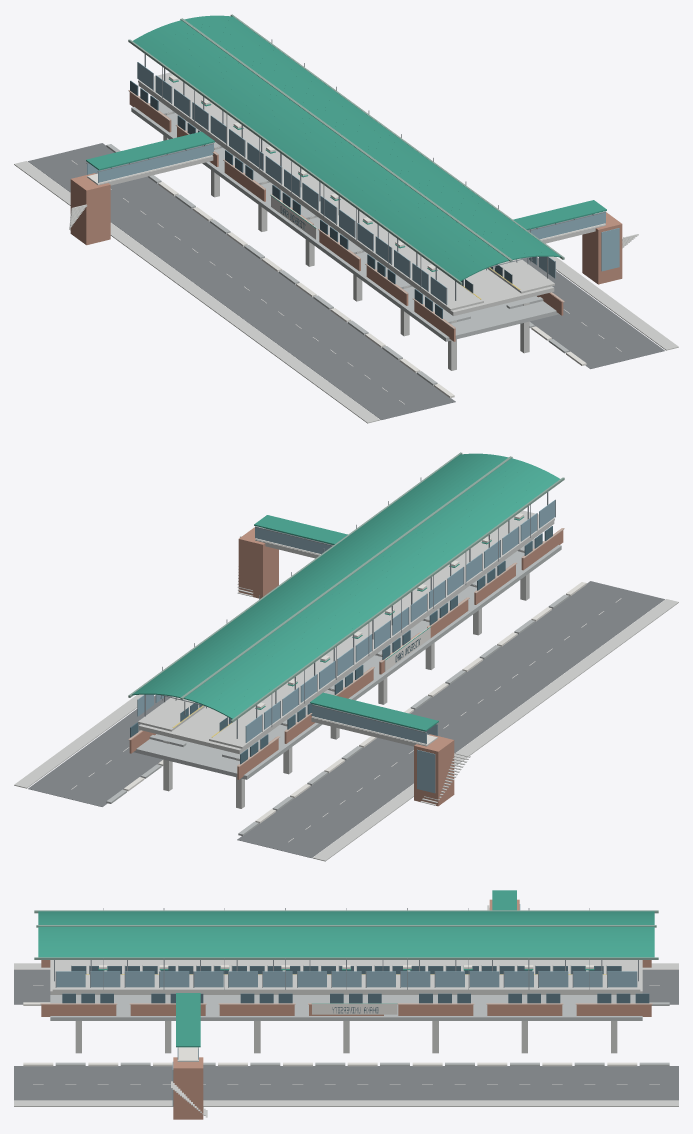
File: dhaka-university-landmark.gltf
3 renders of one model, top to bottom at view 1: azimuth 30°, elevation 25°; view 2: azimuth 150°, elevation 25°; view 3: azimuth 270°, elevation 25°, orthographic. The views are drawn at different scales.
Visible parts, largest first — view 1: Dhaka University original detailed station landmark; view 2: Dhaka University original detailed station landmark; view 3: Dhaka University original detailed station landmark.
Boxes of the visible parts, box(x1,y1,x2,y2) form: Dhaka University original detailed station landmark: box(14, 14, 678, 423); Dhaka University original detailed station landmark: box(14, 452, 678, 861); Dhaka University original detailed station landmark: box(14, 890, 678, 1119).
Bounding box in the file's own units: 107 × 29.91 × 164.
